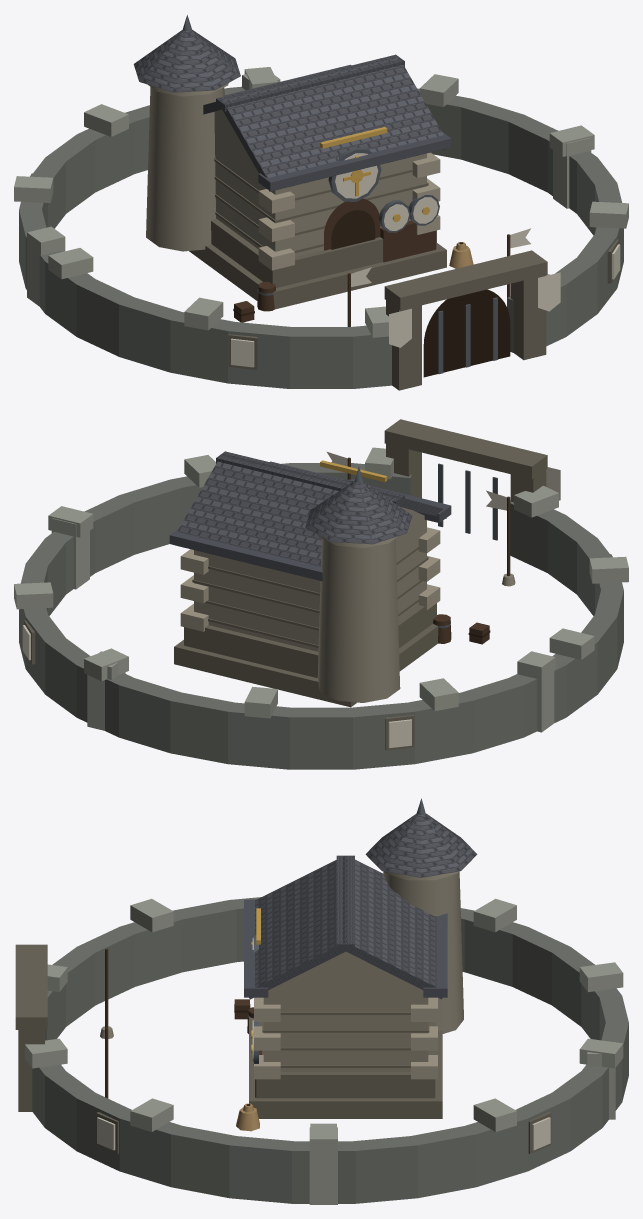
Rendered from town-shield-L2.glb.
The picture shows the model from 3 angles, top to bottom: view 1: azimuth 30°, elevation 25°; view 2: azimuth 150°, elevation 25°; view 3: azimuth 270°, elevation 25°; orthographic projection.
Parts seen in each view (by area): view 1: building-shield-L2, object 8, object 9, object 10, object 12, object 11, object 2, object 13, object 7; view 2: building-shield-L2, object 8, object 9, object 10, object 11, object 2, object 13; view 3: object 8, building-shield-L2, object 9, object 10, object 11, object 2.
Part boxes in pixels (box(x1,y1,x2,y2)): building-shield-L2: box(133, 15, 451, 309); object 8: box(19, 86, 623, 388); object 9: box(14, 67, 628, 337); object 10: box(30, 173, 618, 390); object 12: box(423, 289, 510, 377); object 11: box(231, 244, 620, 367); object 2: box(234, 234, 510, 326); object 13: box(438, 297, 497, 374); object 7: box(351, 228, 530, 286); building-shield-L2: box(169, 451, 451, 707); object 8: box(19, 463, 623, 769); object 9: box(14, 447, 628, 732); object 10: box(24, 419, 612, 750); object 11: box(22, 467, 560, 748); object 2: box(347, 457, 510, 644); object 13: box(438, 463, 497, 540); object 8: box(32, 897, 628, 1203); building-shield-L2: box(244, 798, 477, 1118); object 9: box(25, 898, 623, 1204); object 10: box(15, 944, 551, 1153); object 11: box(97, 1117, 550, 1150); object 2: box(105, 948, 253, 1098).
Bounding box in the file's own units: 7.02 × 2.93 × 6.95.
Materials: 14 (1 with a texture image).
